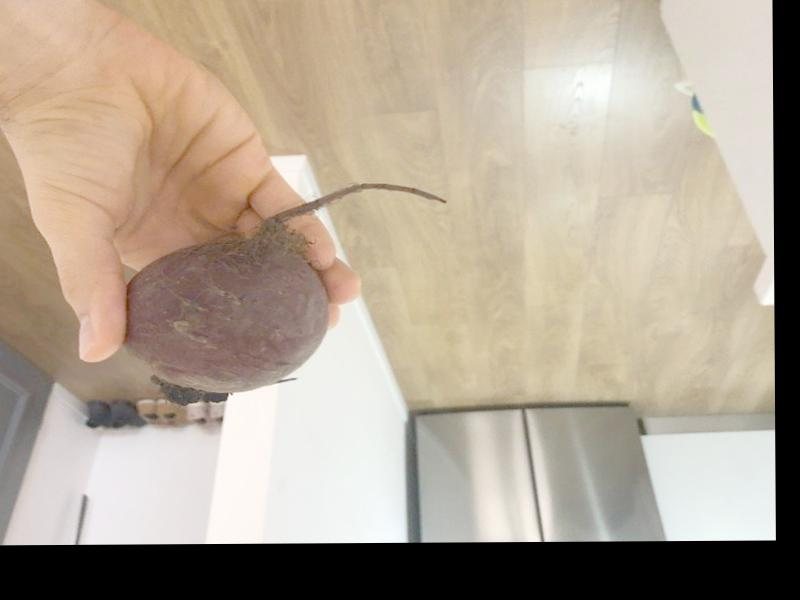Beet: (122, 182, 447, 403)
